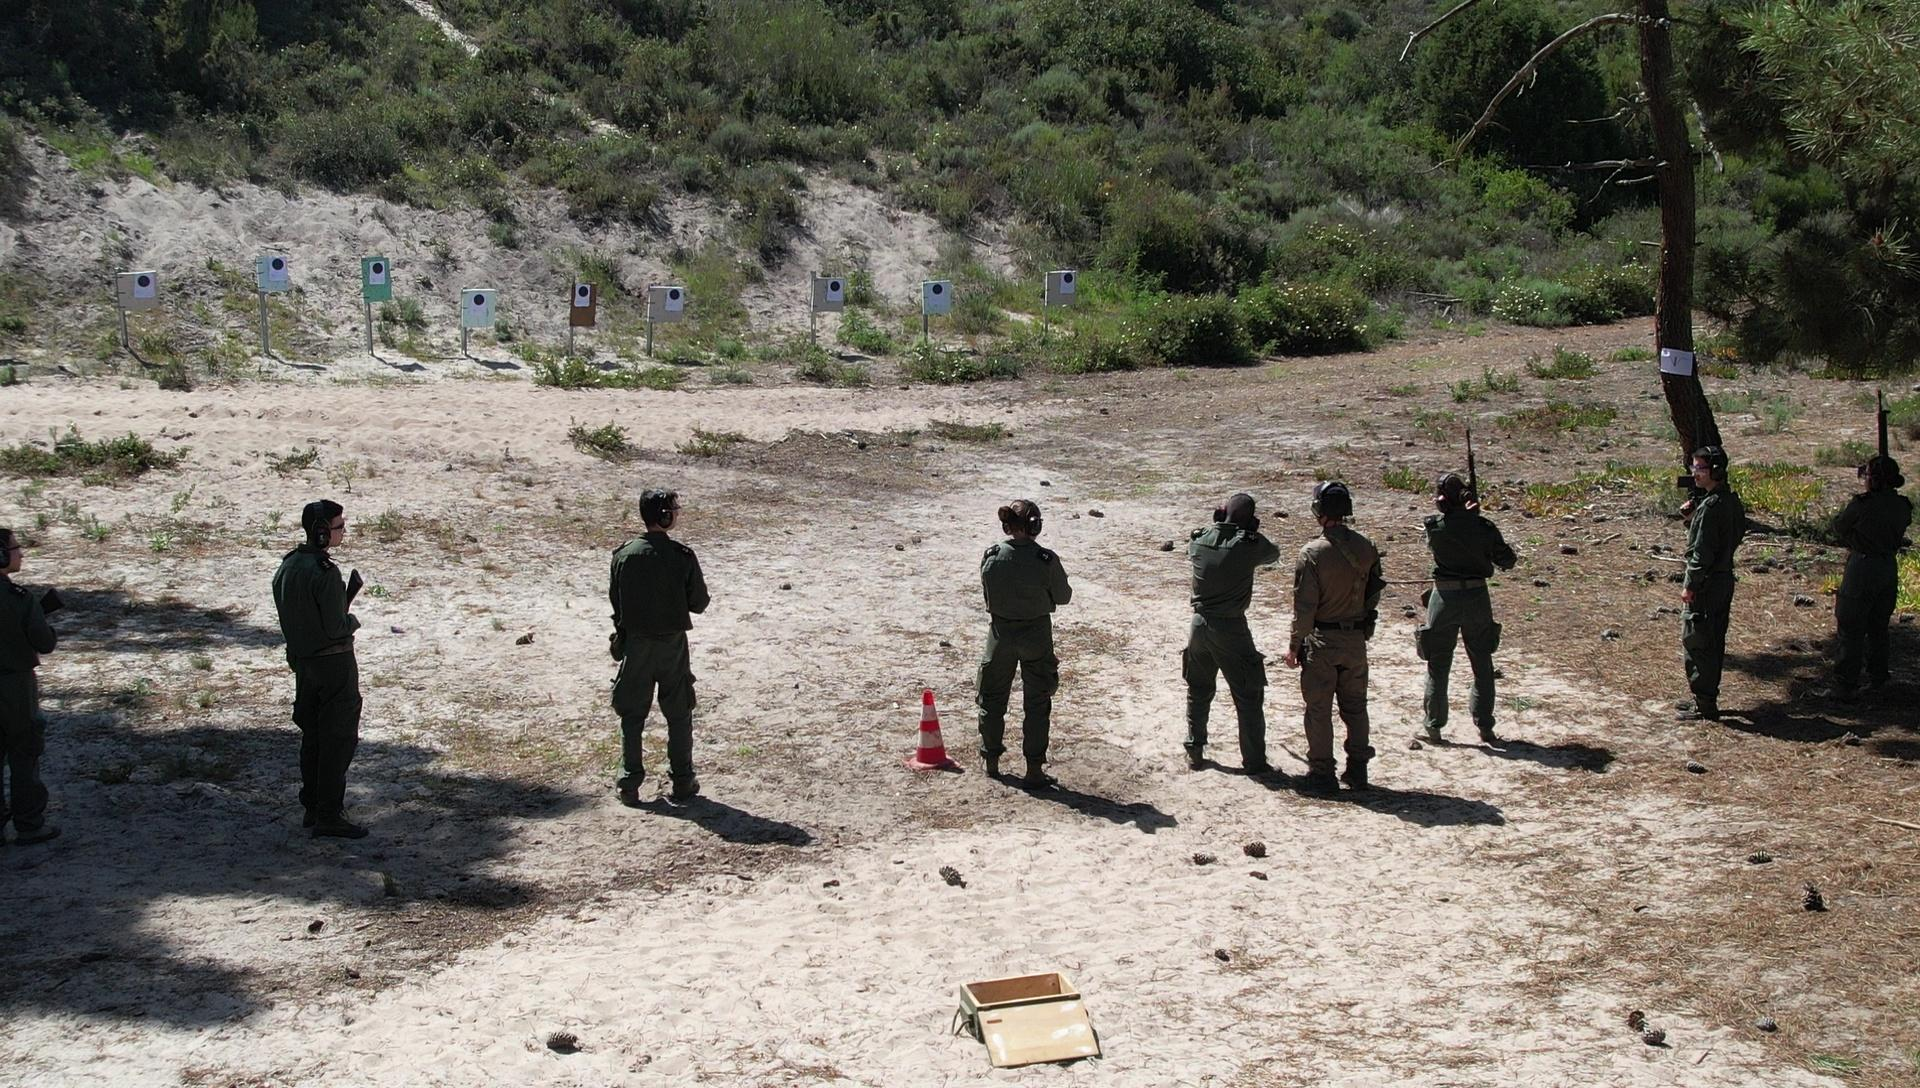Soldier: (244, 502, 411, 864), (1643, 385, 1787, 754), (578, 492, 736, 826), (955, 487, 1091, 807), (1164, 481, 1296, 779), (1407, 434, 1519, 768), (1807, 419, 1919, 728), (1284, 473, 1389, 801), (0, 502, 73, 865)
